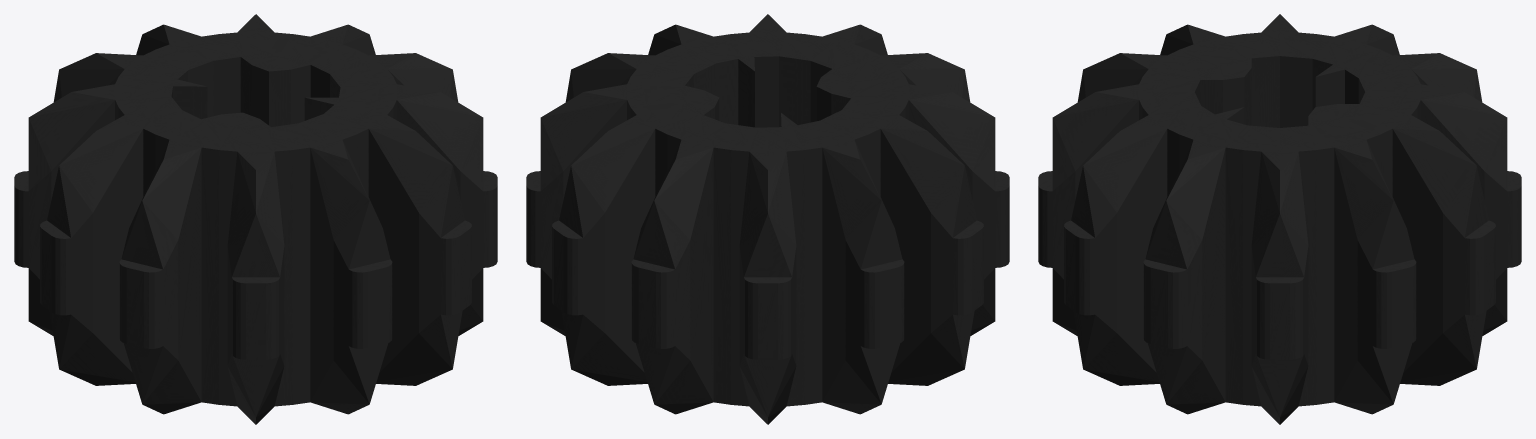
File: double_conical_Z12.dae
The picture shows the model from 3 angles, left to right: view 1: azimuth 30°, elevation 25°; view 2: azimuth 150°, elevation 25°; view 3: azimuth 270°, elevation 25°; orthographic projection.
Parts seen in each view (by area): view 1: node; view 2: node; view 3: node.
Boxes of the visible parts, x1,y1,x2,y2 form: node: (14,14,497,424); node: (526,14,1009,424); node: (1038,14,1521,424).
Size of the model in its own units: 33.5 by 19.5 by 33.5.
Materials: 1 (1 with a texture image).
